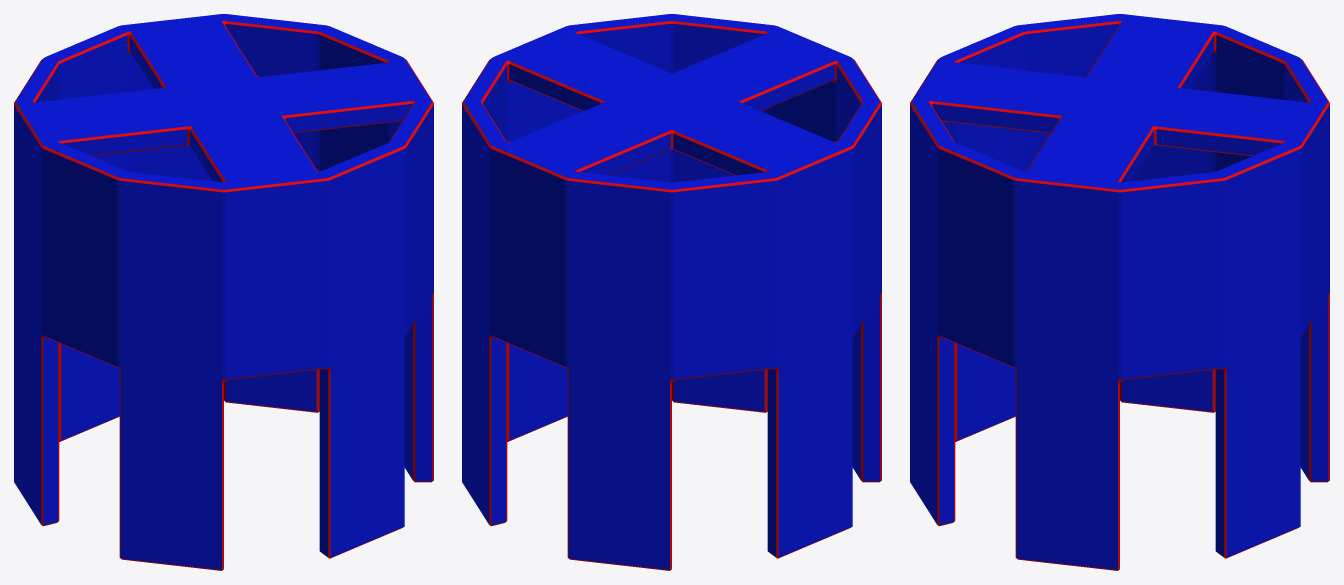
3 views of the same model, side by side, from view 1: azimuth 30°, elevation 25°; view 2: azimuth 150°, elevation 25°; view 3: azimuth 270°, elevation 25° (orthographic).
Parts seen in each view (by area): view 1: L10_Cylinder; view 2: L10_Cylinder; view 3: L10_Cylinder.
Boxes of the visible parts, x1,y1,x2,y2 form: L10_Cylinder: (14, 14, 433, 570); L10_Cylinder: (462, 14, 881, 570); L10_Cylinder: (910, 14, 1329, 570).
Bounding box in the file's own units: 997 × 1000 × 997.
